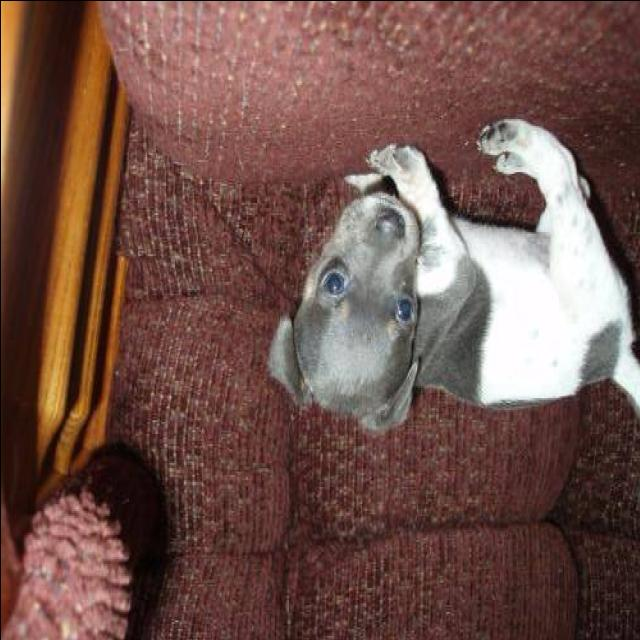dog: (258, 85, 638, 462)
